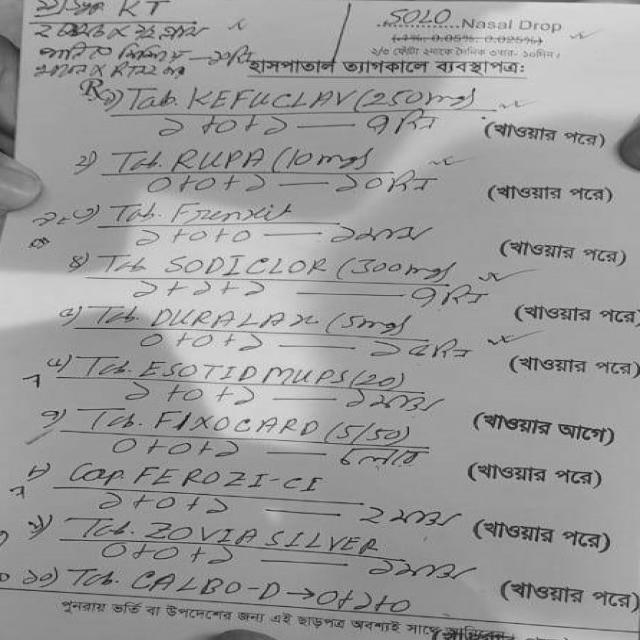medicine: (131, 460, 333, 496), (156, 520, 380, 552), (146, 404, 327, 440), (128, 566, 282, 606), (142, 358, 344, 386), (146, 302, 323, 332), (180, 85, 353, 114), (152, 254, 332, 278), (168, 197, 304, 224), (170, 146, 270, 174)
